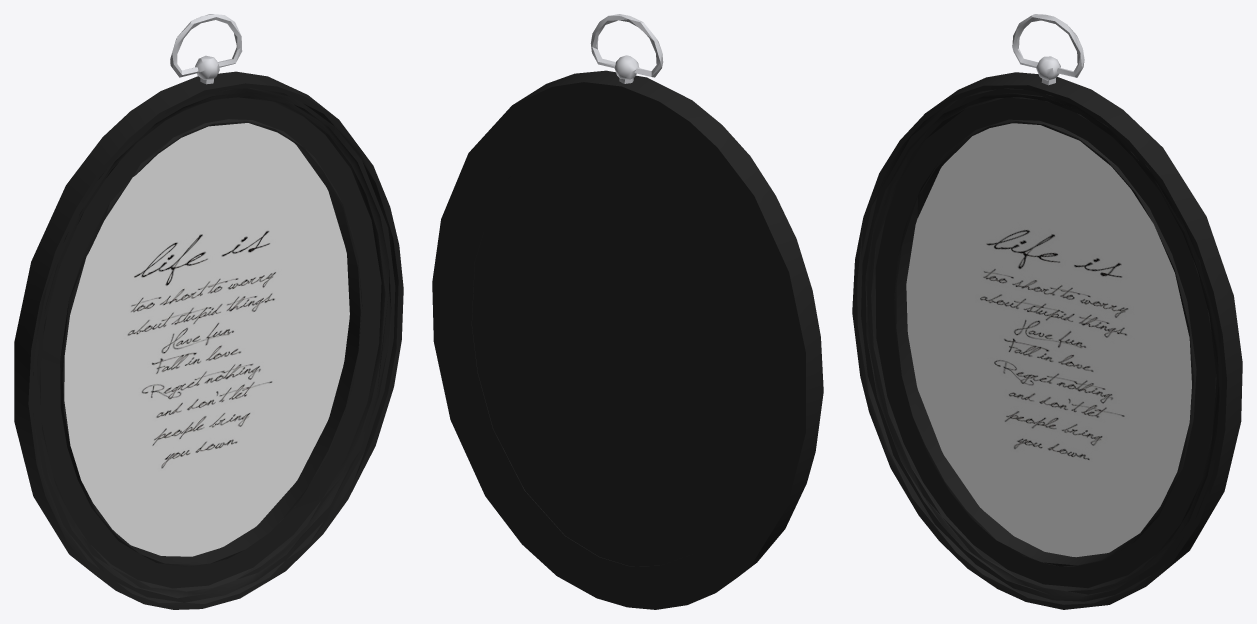
Rendered from SM_Picture_2.fbx.
3 views of the same model, side by side, from view 1: azimuth 30°, elevation 25°; view 2: azimuth 150°, elevation 25°; view 3: azimuth 330°, elevation 25° (orthographic).
Parts seen in each view (by area): view 1: SM_Picture_2; view 2: SM_Picture_2; view 3: SM_Picture_2.
Part boxes in pixels (x1,y1,x2,y2): SM_Picture_2: [14, 14, 403, 609]; SM_Picture_2: [432, 14, 823, 609]; SM_Picture_2: [852, 14, 1242, 609].
Bounding box in the file's own units: 0.2581 × 0.384 × 0.0191.
Materials: 3 (3 with a texture image).
